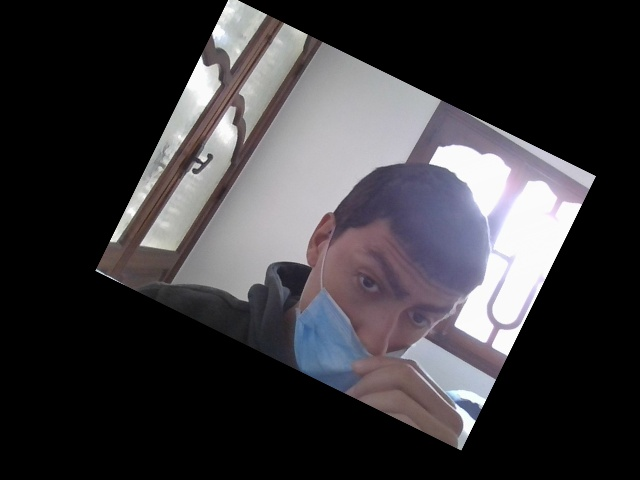mask_weared_incorrect: (300, 187, 473, 409)
